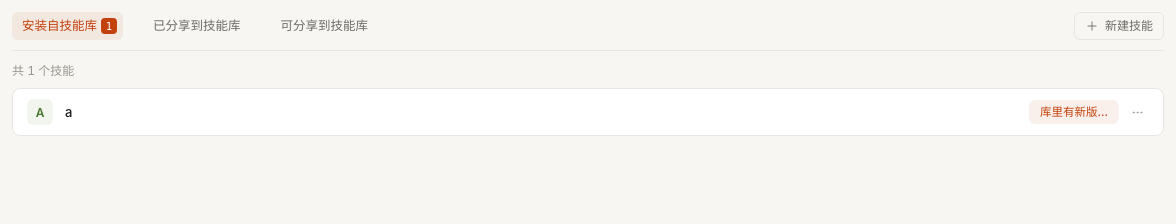
Test: 三区排列与判定表接线 › 🔴 修复轮 2(③):「更多」菜单里「移除」永远排最后,且与前面的动作有一条分隔线
Click the button named "更多" at (1137, 112), box [1125,100,1149,124]
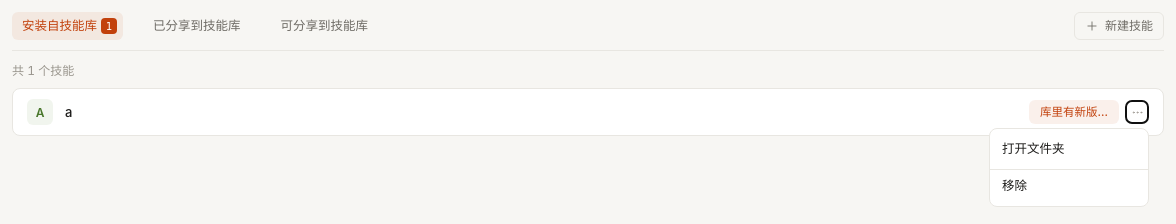
expect the menu item "移除" is shown: met, box [990,169,1148,202]
